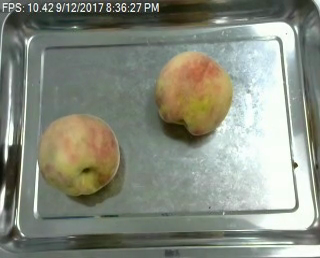Peach: (38, 112, 120, 197), (154, 50, 233, 136)
